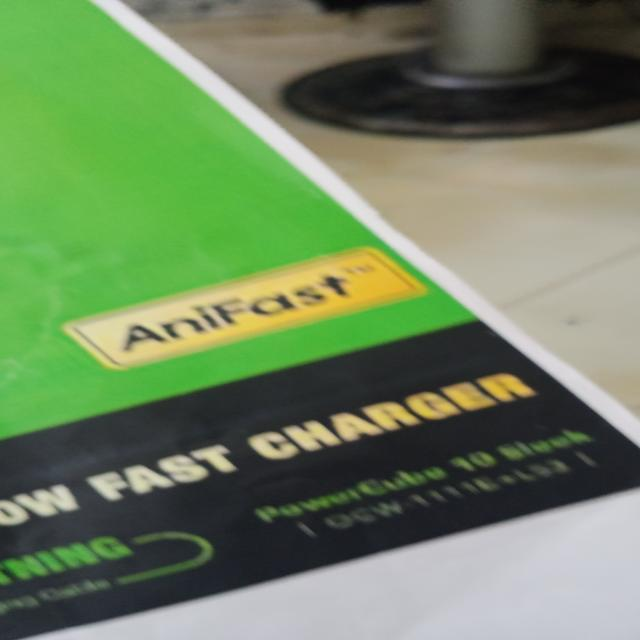PowerCube 10 Sleek OCW-1111ExL53: (243, 420, 627, 546)
